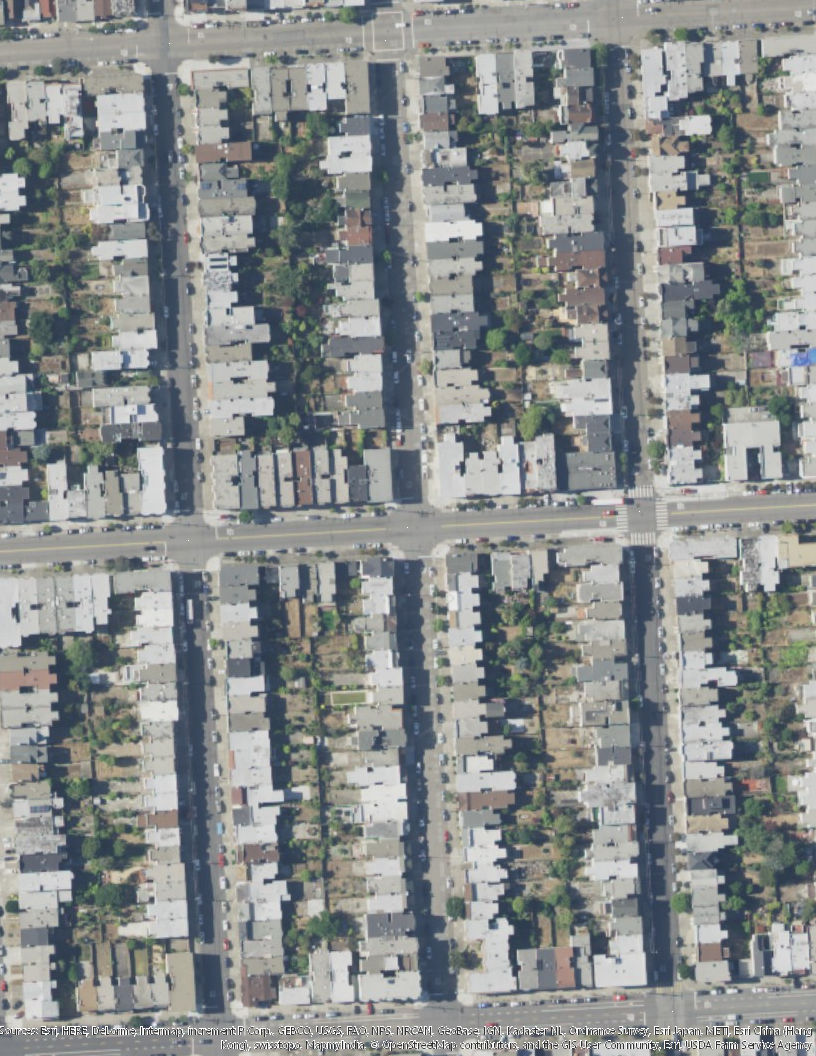zebracross: (654, 498, 670, 529), (615, 501, 628, 533), (628, 484, 655, 499), (630, 532, 656, 546)
